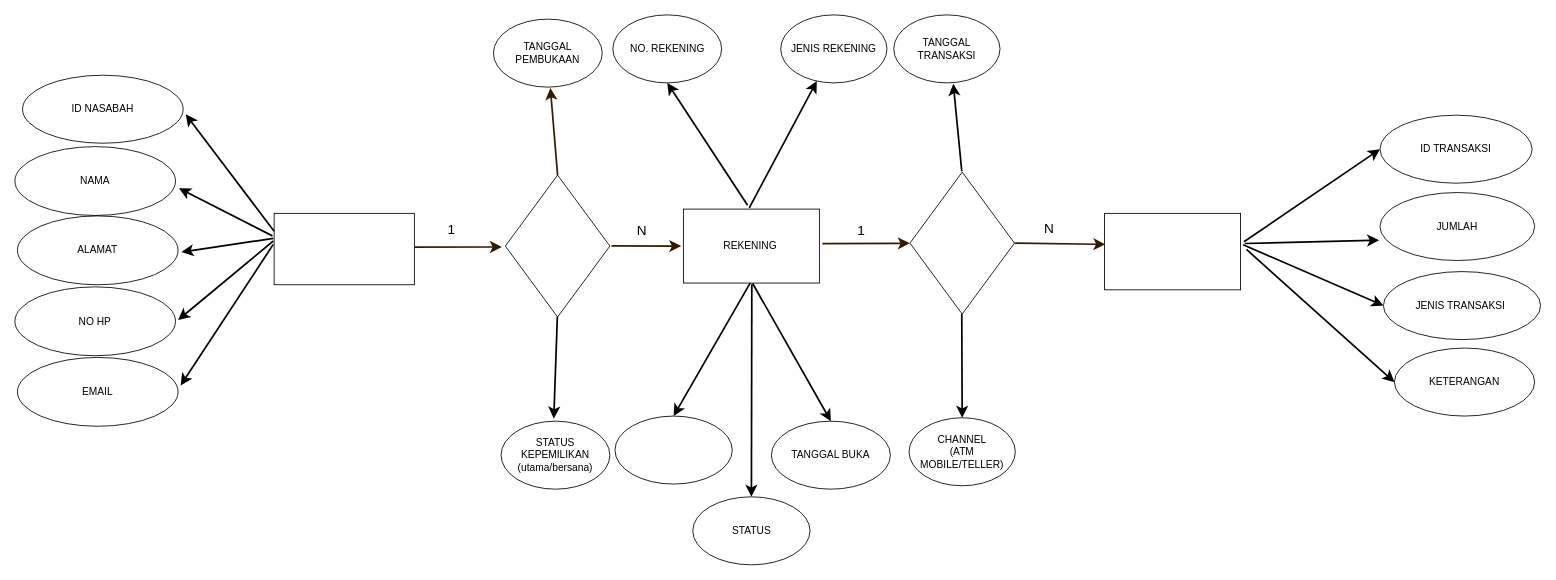
Image size: 1556x580. Some labels were removed from this diagram. The box of each missing label's shape, as (x1, y1, x2, y2) in pixels:
MELAKUKAN: (909, 171, 1014, 314)
MEMILIKI: (504, 174, 610, 317)
NASABAH: (273, 212, 414, 285)
SALDO: (614, 415, 732, 484)
TRANSAKSI: (1104, 212, 1241, 290)
